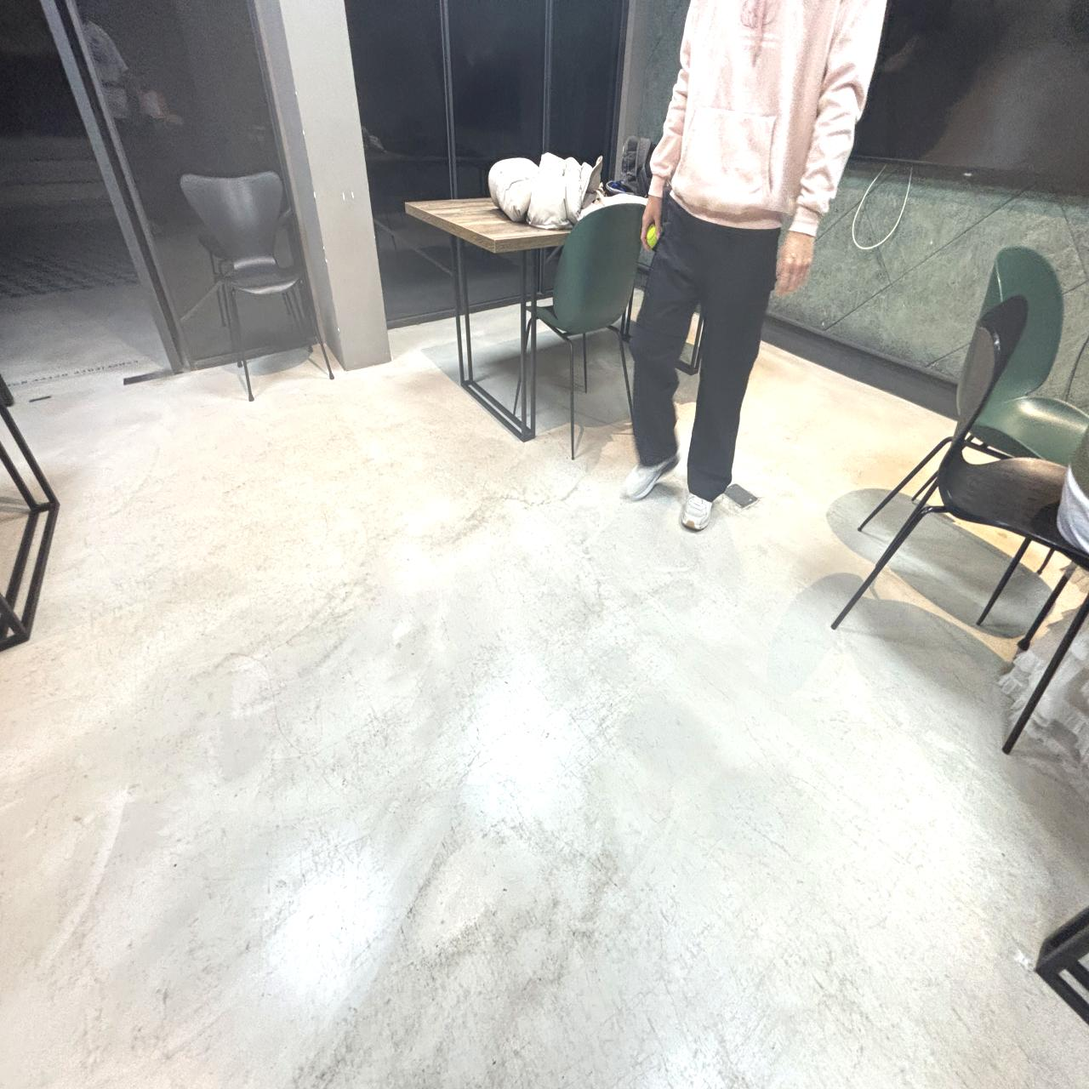person: (625, 0, 885, 530)
tennisball: (647, 224, 658, 248)
